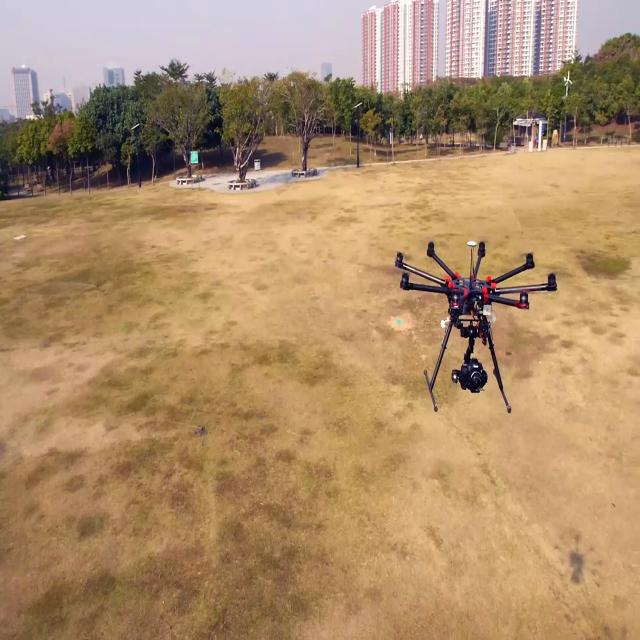drone: (377, 230, 562, 421)
